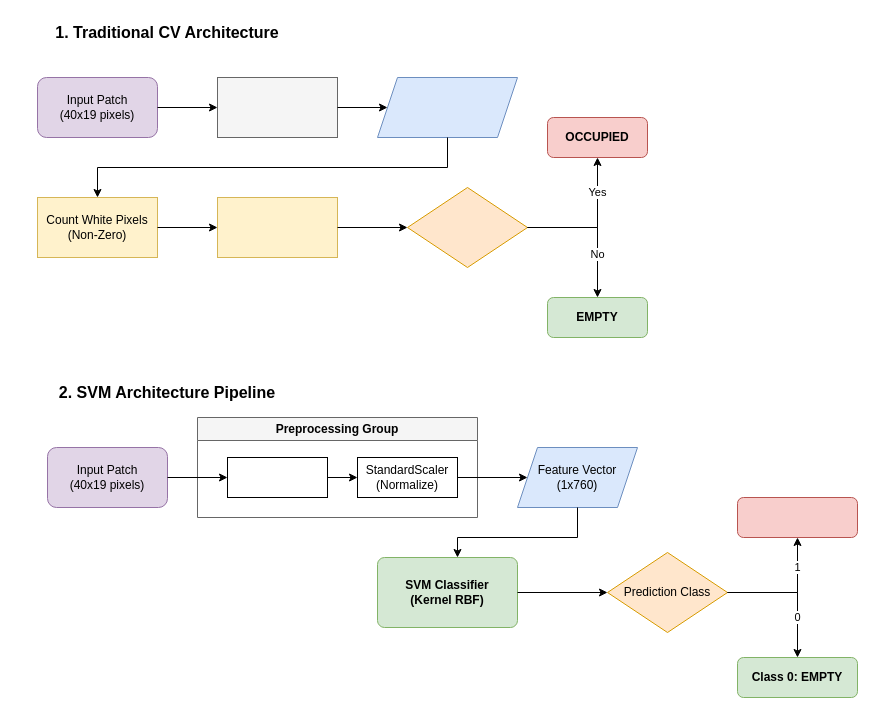
The diagram is 875 pixels wide and 715 high, and some of its shapes have lost their labels. Each missing label, with the box of its shape:
Adaptive Threshold: (216, 76, 338, 138)
Binary Image (Black/White): (376, 76, 518, 138)
Calculate Ratio = Count / 760: (216, 196, 338, 258)
Class 1: OCCUPIED: (736, 496, 858, 538)
Flatten (1D Vector): (226, 456, 328, 498)
Ratio > 0.22?: (406, 186, 528, 268)
